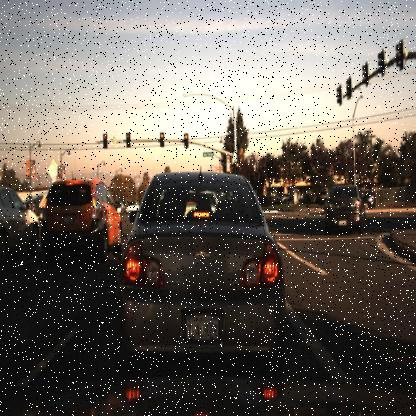car: (119, 172, 282, 369), (38, 175, 123, 272), (0, 191, 39, 261), (323, 184, 368, 243), (358, 180, 380, 214), (124, 197, 141, 214)
trafficLight-Red: (183, 130, 192, 149), (159, 131, 166, 149), (233, 156, 241, 171), (125, 129, 133, 142), (102, 132, 110, 144)
trafficLight-RedLeft: (124, 127, 132, 149), (100, 131, 108, 150)
